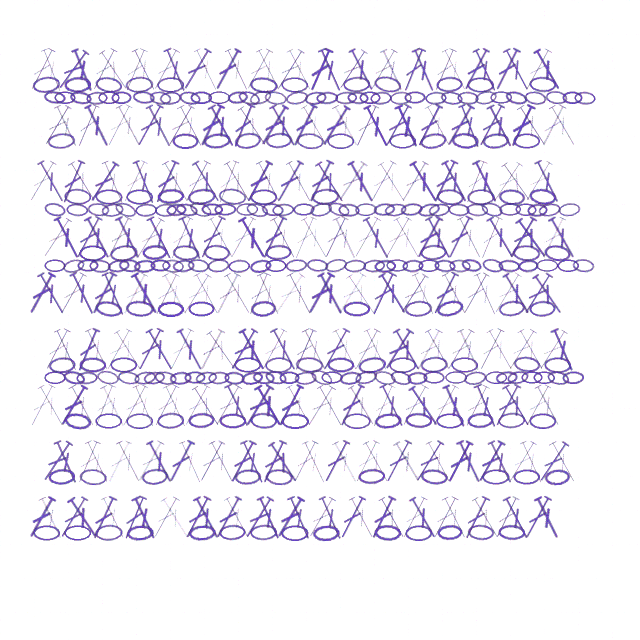chain: (435, 298, 465, 319), (373, 74, 402, 95), (109, 243, 139, 263), (357, 355, 387, 375), (94, 75, 123, 95), (419, 131, 448, 151), (543, 243, 572, 263), (94, 299, 123, 319), (63, 411, 92, 431), (32, 75, 61, 94), (187, 187, 216, 206), (218, 187, 247, 206), (528, 187, 557, 206), (234, 131, 262, 150), (498, 299, 526, 318), (513, 355, 541, 374), (141, 467, 169, 486), (309, 367, 334, 388), (249, 76, 278, 94), (47, 132, 76, 150), (512, 244, 541, 262), (295, 356, 324, 374), (203, 132, 231, 150), (296, 132, 324, 150), (482, 132, 510, 150), (436, 188, 464, 206), (498, 188, 526, 206), (172, 244, 200, 262), (48, 356, 76, 374), (374, 412, 402, 430), (79, 468, 107, 486), (234, 468, 262, 486), (265, 468, 293, 486), (420, 468, 448, 486), (126, 524, 154, 542), (188, 524, 216, 542), (312, 524, 340, 542), (113, 200, 138, 220), (125, 76, 154, 93), (311, 188, 340, 205), (125, 300, 154, 317), (404, 300, 433, 317), (544, 468, 571, 486), (265, 132, 293, 149), (451, 132, 479, 149), (203, 244, 231, 261), (420, 356, 448, 373), (95, 524, 123, 541), (467, 524, 495, 541), (248, 88, 273, 107), (188, 200, 213, 219), (326, 200, 351, 219), (64, 76, 91, 93), (343, 76, 370, 93), (436, 76, 463, 93), (529, 76, 556, 93), (64, 188, 91, 205), (157, 188, 184, 205), (265, 244, 292, 261), (420, 244, 447, 261), (250, 300, 277, 317), (529, 300, 556, 317), (157, 412, 184, 429), (188, 412, 215, 429), (250, 412, 277, 429), (405, 412, 432, 429), (467, 412, 494, 429), (498, 412, 525, 429), (48, 468, 75, 485), (358, 468, 385, 485), (219, 524, 246, 541), (250, 524, 277, 541), (374, 524, 401, 541), (498, 524, 525, 541), (480, 200, 504, 219), (95, 189, 123, 205), (467, 189, 495, 205), (281, 413, 309, 429), (343, 413, 371, 429), (436, 413, 464, 429), (482, 469, 510, 485), (281, 525, 309, 541), (142, 244, 168, 261), (437, 524, 463, 541), (157, 77, 184, 93), (281, 77, 308, 93), (467, 77, 494, 93), (237, 89, 261, 107), (504, 89, 528, 107), (172, 133, 199, 149), (327, 133, 354, 149), (389, 133, 416, 149), (513, 133, 540, 149), (126, 189, 153, 205), (250, 189, 277, 205), (245, 201, 269, 219), (417, 201, 441, 219), (79, 245, 106, 261), (62, 257, 86, 275), (157, 301, 184, 317), (188, 301, 215, 317), (343, 301, 370, 317), (79, 357, 106, 373), (110, 357, 137, 373), (234, 357, 261, 373), (265, 357, 292, 373), (327, 357, 354, 373), (389, 357, 416, 373), (451, 357, 478, 373), (544, 357, 571, 373), (373, 369, 397, 387), (389, 369, 413, 387), (95, 413, 122, 429), (126, 413, 153, 429), (219, 413, 246, 429), (529, 413, 556, 429), (513, 469, 540, 485), (33, 525, 60, 541), (64, 525, 91, 541), (405, 525, 432, 541), (474, 89, 498, 106), (43, 201, 67, 218), (309, 201, 333, 218), (324, 257, 348, 274), (481, 257, 505, 274), (62, 369, 86, 386), (96, 369, 120, 386), (264, 369, 288, 386), (354, 369, 378, 386), (506, 369, 530, 386), (460, 257, 483, 274), (178, 90, 202, 106), (285, 90, 309, 106), (248, 258, 272, 274), (133, 370, 157, 386), (240, 370, 264, 386), (463, 370, 487, 386), (546, 370, 570, 386), (69, 90, 92, 106), (149, 90, 172, 106), (264, 90, 287, 106), (304, 90, 327, 106), (440, 90, 463, 106), (524, 90, 547, 106), (101, 202, 124, 218), (175, 202, 198, 218), (384, 202, 407, 218), (428, 202, 451, 218), (538, 202, 561, 218), (107, 258, 130, 274), (117, 370, 140, 386), (143, 370, 166, 386), (154, 370, 177, 386), (195, 370, 218, 386), (339, 370, 362, 386), (43, 90, 66, 105), (132, 90, 155, 105), (545, 90, 568, 105), (87, 202, 110, 217), (261, 202, 284, 217), (373, 202, 396, 217), (400, 202, 423, 217), (558, 202, 581, 217), (118, 258, 141, 273), (187, 258, 210, 273), (207, 258, 230, 273), (285, 258, 308, 273), (306, 258, 329, 273), (572, 258, 595, 273), (252, 370, 275, 385), (495, 370, 518, 385), (227, 90, 249, 105), (159, 91, 182, 105), (133, 259, 156, 273), (172, 259, 195, 273), (169, 371, 192, 385), (294, 371, 317, 385), (86, 91, 108, 105), (316, 91, 338, 105), (335, 91, 357, 105), (347, 91, 369, 105), (370, 91, 392, 105), (390, 91, 412, 105), (425, 91, 447, 105), (457, 91, 479, 105), (574, 91, 596, 105), (66, 203, 88, 217), (135, 203, 157, 217), (155, 203, 177, 217), (272, 203, 294, 217), (338, 203, 360, 217), (448, 203, 470, 217), (466, 203, 488, 217), (89, 259, 111, 273), (162, 259, 184, 273), (228, 259, 250, 273), (344, 259, 366, 273), (363, 259, 385, 273), (374, 259, 396, 273), (402, 259, 424, 273), (434, 259, 456, 273), (449, 259, 471, 273), (498, 259, 520, 273), (76, 371, 98, 385), (208, 371, 230, 385), (166, 203, 187, 217), (527, 203, 548, 217), (518, 259, 539, 273), (224, 371, 245, 385), (407, 371, 428, 385), (54, 91, 76, 104), (98, 91, 120, 104), (190, 91, 212, 104), (208, 91, 230, 104), (359, 91, 381, 104), (404, 91, 426, 104), (490, 91, 512, 104), (201, 203, 223, 216), (214, 203, 236, 216), (236, 203, 258, 216), (293, 203, 315, 216), (355, 203, 377, 216), (499, 203, 521, 216), (515, 203, 537, 216), (44, 259, 66, 272), (77, 259, 99, 272), (265, 259, 287, 272), (386, 259, 408, 272), (418, 259, 440, 272), (536, 259, 558, 272), (557, 259, 579, 272), (44, 371, 66, 384), (184, 371, 206, 384), (321, 371, 343, 384), (423, 371, 445, 384), (445, 371, 467, 384), (485, 371, 507, 384), (521, 371, 543, 384), (533, 371, 555, 384), (562, 371, 584, 384), (111, 91, 132, 104), (562, 91, 583, 104), (150, 259, 171, 272), (279, 371, 300, 384)
double: (270, 270, 309, 317), (53, 47, 92, 93), (512, 215, 551, 261), (333, 46, 371, 93), (513, 102, 551, 149), (333, 158, 371, 205), (379, 326, 417, 373), (38, 438, 76, 485), (64, 494, 102, 541), (95, 47, 133, 93), (234, 103, 272, 149), (488, 159, 526, 205), (498, 159, 536, 205), (529, 271, 567, 317), (203, 327, 241, 373), (405, 383, 443, 429), (534, 439, 572, 485), (178, 46, 215, 93), (271, 46, 308, 93), (333, 270, 370, 317), (503, 326, 540, 373), (240, 382, 277, 429), (389, 438, 426, 485), (157, 494, 194, 541), (240, 494, 277, 541), (204, 102, 240, 150), (359, 214, 395, 262), (545, 438, 581, 486), (317, 103, 354, 149), (85, 159, 122, 205), (312, 159, 349, 205), (374, 159, 411, 205), (38, 215, 75, 261), (131, 215, 168, 261), (178, 271, 215, 317), (343, 271, 380, 317), (395, 271, 432, 317), (519, 271, 556, 317), (110, 327, 147, 373), (534, 327, 571, 373), (188, 383, 225, 429), (302, 383, 339, 429), (265, 439, 302, 485), (365, 46, 401, 93), (39, 102, 75, 149), (256, 102, 292, 149), (297, 102, 333, 149), (328, 102, 364, 149), (442, 102, 478, 149), (545, 102, 581, 149), (24, 158, 60, 205), (65, 158, 101, 205), (158, 158, 194, 205), (189, 158, 225, 205), (220, 158, 256, 205), (396, 158, 432, 205), (406, 158, 442, 205), (520, 158, 556, 205), (235, 214, 271, 261), (297, 214, 333, 261), (483, 214, 519, 261), (504, 214, 540, 261), (127, 270, 163, 317), (220, 270, 256, 317), (375, 270, 411, 317), (489, 270, 525, 317), (499, 270, 535, 317), (142, 326, 178, 373), (225, 326, 261, 373), (442, 326, 478, 373), (55, 382, 91, 429), (251, 382, 287, 429), (344, 382, 380, 429), (396, 382, 432, 429), (499, 382, 535, 429), (132, 438, 168, 485), (411, 438, 447, 485), (504, 438, 540, 485), (55, 494, 91, 541), (272, 494, 308, 541), (303, 494, 339, 541), (468, 494, 504, 541), (142, 102, 177, 150), (173, 102, 208, 150), (483, 102, 518, 150), (266, 214, 301, 262), (117, 270, 152, 318), (158, 270, 193, 318), (210, 270, 245, 318), (194, 326, 229, 374), (411, 326, 446, 374), (96, 382, 131, 430), (225, 438, 260, 486), (328, 438, 363, 486), (442, 438, 477, 486), (499, 494, 534, 542), (148, 46, 183, 93), (210, 46, 245, 93), (241, 46, 276, 93), (520, 46, 555, 93), (530, 46, 565, 93), (132, 102, 167, 149), (163, 102, 198, 149), (266, 102, 301, 149), (380, 102, 415, 149), (421, 102, 456, 149), (34, 158, 69, 205), (241, 158, 276, 205), (272, 158, 307, 205), (282, 158, 317, 205), (344, 158, 379, 205), (365, 158, 400, 205), (204, 214, 239, 261), (225, 214, 260, 261), (349, 214, 384, 261), (380, 214, 415, 261), (390, 214, 425, 261), (545, 214, 580, 261), (24, 270, 59, 317), (34, 270, 69, 317), (55, 270, 90, 317), (303, 270, 338, 317), (458, 270, 493, 317), (101, 326, 136, 373), (173, 326, 208, 373), (235, 326, 270, 373), (256, 326, 291, 373), (318, 326, 353, 373), (349, 326, 384, 373), (390, 326, 425, 373), (421, 326, 456, 373), (483, 326, 518, 373), (514, 326, 549, 373), (34, 382, 69, 429), (65, 382, 100, 429), (117, 382, 152, 429), (179, 382, 214, 429), (210, 382, 245, 429), (282, 382, 317, 429), (313, 382, 348, 429), (427, 382, 462, 429), (520, 382, 555, 429), (194, 438, 229, 485), (359, 438, 394, 485), (473, 438, 508, 485), (24, 494, 59, 541), (148, 494, 183, 541), (220, 494, 255, 541), (375, 494, 410, 541), (406, 494, 441, 541), (520, 494, 555, 541), (360, 102, 394, 150), (505, 102, 539, 150), (536, 102, 570, 150), (143, 214, 177, 262), (536, 214, 570, 262), (149, 270, 183, 318), (366, 270, 400, 318), (459, 382, 493, 430), (102, 438, 136, 486), (484, 438, 518, 486), (459, 494, 493, 542), (25, 46, 59, 93), (87, 46, 121, 93), (252, 46, 286, 93), (283, 46, 317, 93), (345, 46, 379, 93), (438, 46, 472, 93), (459, 46, 493, 93), (490, 46, 524, 93), (500, 46, 534, 93), (102, 102, 136, 149), (112, 102, 146, 149), (412, 102, 446, 149), (474, 102, 508, 149), (180, 158, 214, 205), (252, 158, 286, 205), (438, 158, 472, 205), (50, 214, 84, 261), (71, 214, 105, 261), (81, 214, 115, 261), (195, 214, 229, 261), (412, 214, 446, 261), (422, 214, 456, 261), (453, 214, 487, 261), (190, 270, 224, 317), (283, 270, 317, 317), (314, 270, 348, 317), (428, 270, 462, 317), (438, 270, 472, 317), (40, 326, 74, 373), (133, 326, 167, 373), (164, 326, 198, 373), (267, 326, 301, 373), (298, 326, 332, 373), (329, 326, 363, 373), (474, 326, 508, 373), (25, 382, 59, 429), (149, 382, 183, 429), (273, 382, 307, 429), (490, 382, 524, 429), (531, 382, 565, 429), (112, 438, 146, 485), (143, 438, 177, 485), (164, 438, 198, 485), (205, 438, 239, 485), (288, 438, 322, 485), (319, 438, 353, 485), (381, 438, 415, 485), (422, 438, 456, 485), (180, 494, 214, 541), (190, 494, 224, 541), (211, 494, 245, 541), (335, 494, 369, 541), (345, 494, 379, 541), (397, 494, 431, 541), (428, 494, 462, 541), (438, 494, 472, 541), (304, 46, 337, 94), (314, 46, 347, 94), (376, 46, 409, 94), (469, 46, 502, 94), (50, 102, 83, 150), (350, 102, 383, 150), (391, 102, 424, 150), (329, 214, 362, 262), (50, 326, 83, 374), (453, 326, 486, 374), (159, 382, 192, 430), (50, 438, 83, 486), (257, 438, 290, 486), (298, 438, 331, 486), (35, 494, 68, 542), (87, 494, 120, 542), (128, 494, 161, 542), (128, 46, 161, 93), (190, 46, 223, 93), (221, 46, 254, 93), (81, 102, 114, 149), (195, 102, 228, 149), (288, 102, 321, 149), (118, 158, 151, 205), (304, 158, 337, 205), (428, 158, 461, 205), (469, 158, 502, 205), (531, 158, 564, 205), (102, 214, 135, 261), (112, 214, 145, 261), (257, 214, 290, 261), (319, 214, 352, 261), (443, 214, 476, 261), (66, 270, 99, 317), (87, 270, 120, 317), (81, 326, 114, 373), (360, 326, 393, 373), (221, 382, 254, 429), (335, 382, 368, 429), (376, 382, 409, 429), (81, 438, 114, 485), (350, 438, 383, 485), (453, 438, 486, 485), (97, 494, 130, 541), (366, 494, 399, 541), (490, 494, 523, 541), (531, 494, 564, 541), (119, 46, 151, 94), (408, 46, 440, 94), (150, 158, 182, 206), (165, 214, 197, 262), (175, 214, 207, 262), (98, 270, 130, 318), (253, 270, 285, 318), (408, 270, 440, 318), (470, 270, 502, 318), (547, 326, 579, 374), (367, 382, 399, 430), (439, 382, 471, 430), (470, 382, 502, 430), (72, 438, 104, 486), (175, 438, 207, 486), (237, 438, 269, 486), (516, 438, 548, 486), (253, 494, 285, 542), (315, 494, 347, 542), (160, 46, 191, 94), (398, 46, 429, 94), (429, 46, 460, 94), (72, 102, 103, 150), (57, 158, 88, 206), (98, 158, 129, 206), (129, 158, 160, 206), (460, 158, 491, 206), (289, 214, 320, 262), (475, 214, 506, 262), (243, 270, 274, 318), (72, 326, 103, 374), (289, 326, 320, 374), (129, 382, 160, 430), (119, 494, 150, 542), (284, 494, 315, 542), (37, 46, 67, 94), (68, 46, 98, 94), (228, 102, 258, 150), (455, 102, 485, 150), (213, 158, 243, 206), (89, 382, 119, 430)
